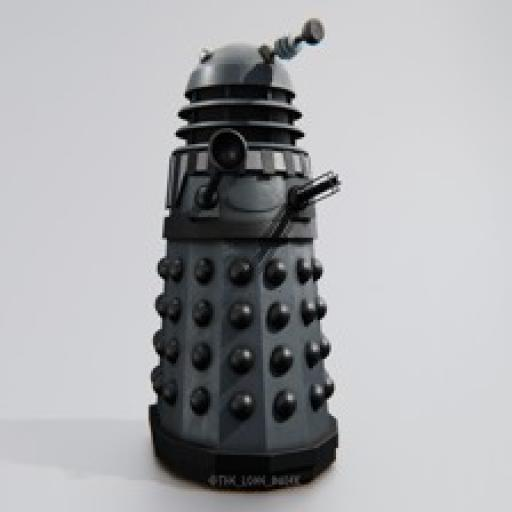dalek: (130, 15, 341, 495)
